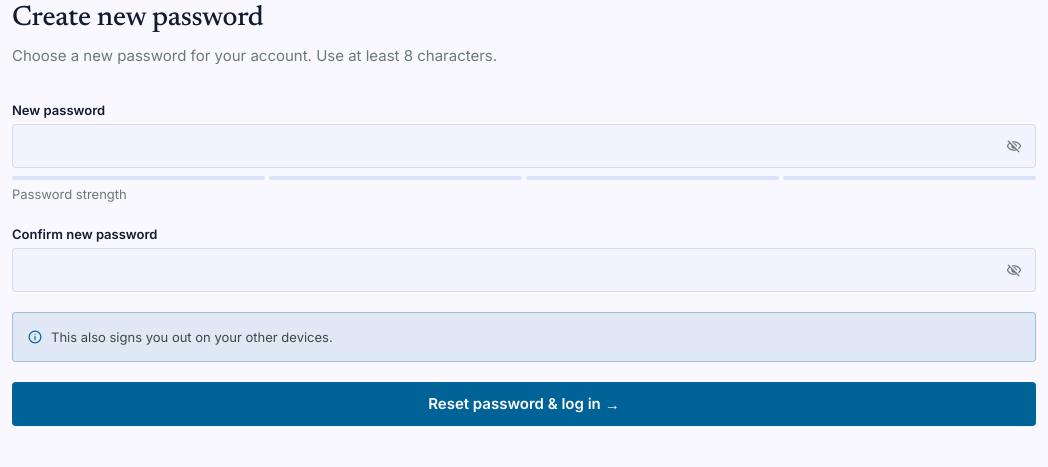
it: ResetPasswordForm: the form › shows the server's password errors on the password field and keeps the form
Type "password1234" into the password field labelled "New password" at (524, 146), box [12,124,1036,168]
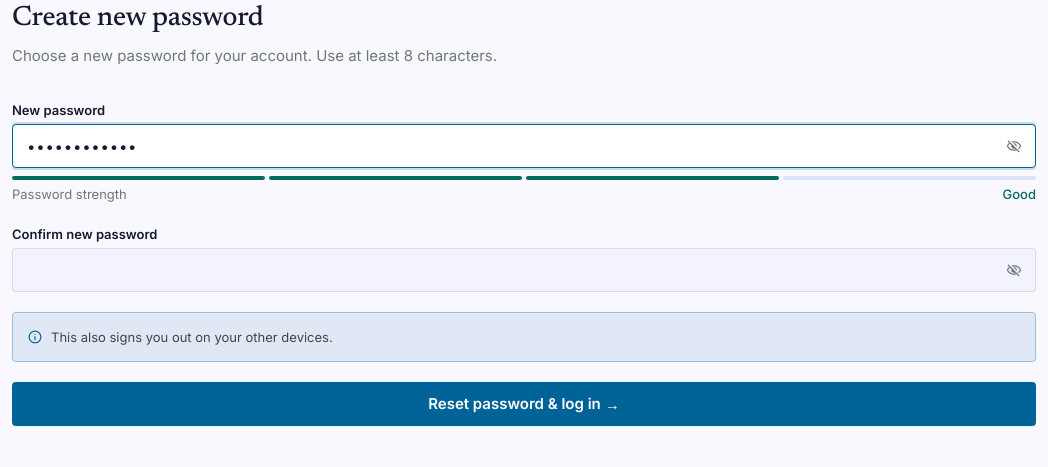
Type "password1234" into the password field labelled "Confirm new password" at (524, 270), box [12,248,1036,292]
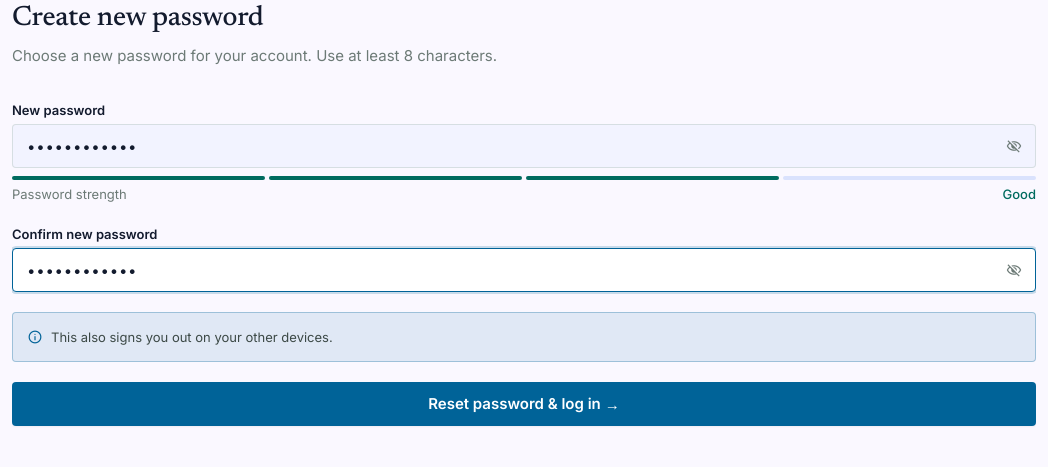
Click the button "Reset password & log in →" at (524, 404), box [12,382,1036,426]
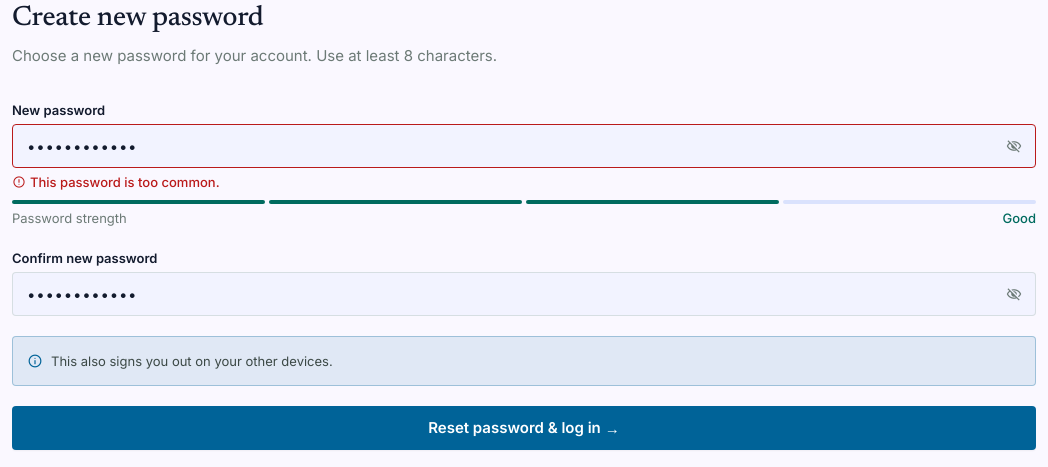
Result: the text "This password is too common." is shown at [12,174,220,190]
